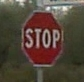stop: (19, 10, 63, 67)
